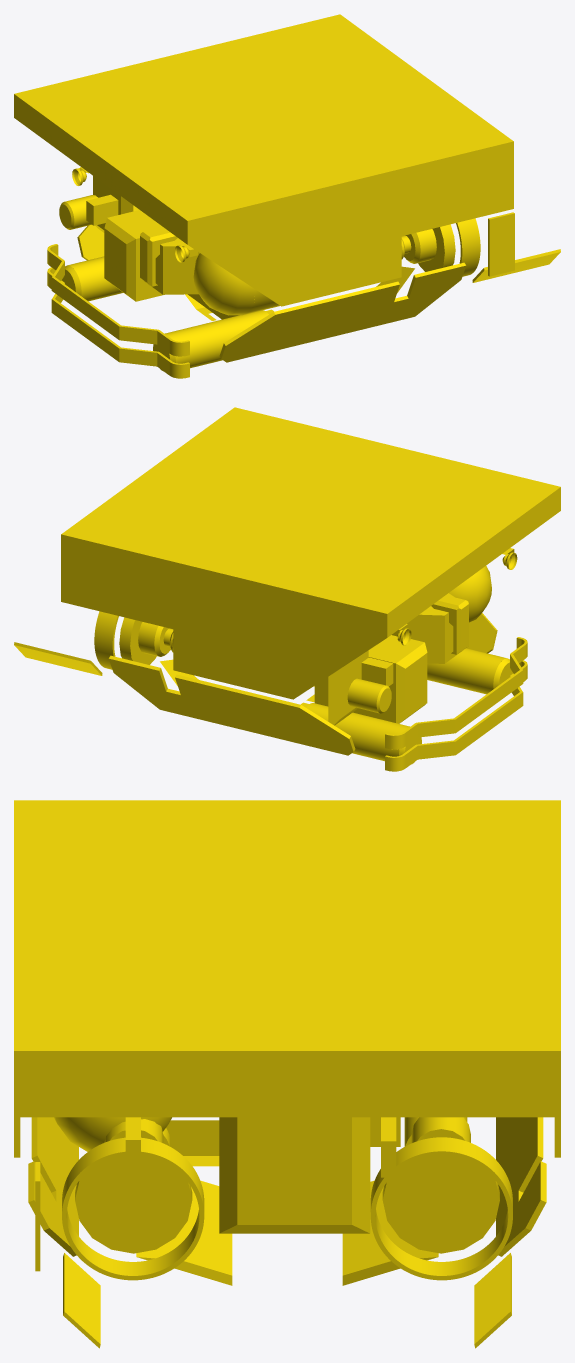
The model's file is LoaderRig.glb.
The picture shows the model from 3 angles, top to bottom: view 1: azimuth 30°, elevation 25°; view 2: azimuth 150°, elevation 25°; view 3: azimuth 270°, elevation 25°; orthographic projection. The views are drawn at different scales.
Parts seen in each view (by area): view 1: loader drone; view 2: loader drone; view 3: loader drone.
Part boxes in pixels (box(x1,y1,x2,y2)): loader drone: box(14, 14, 560, 378); loader drone: box(14, 407, 560, 771); loader drone: box(14, 800, 560, 1348).
Bounding box in the file's own units: 2.7 × 1.23 × 2.01.
